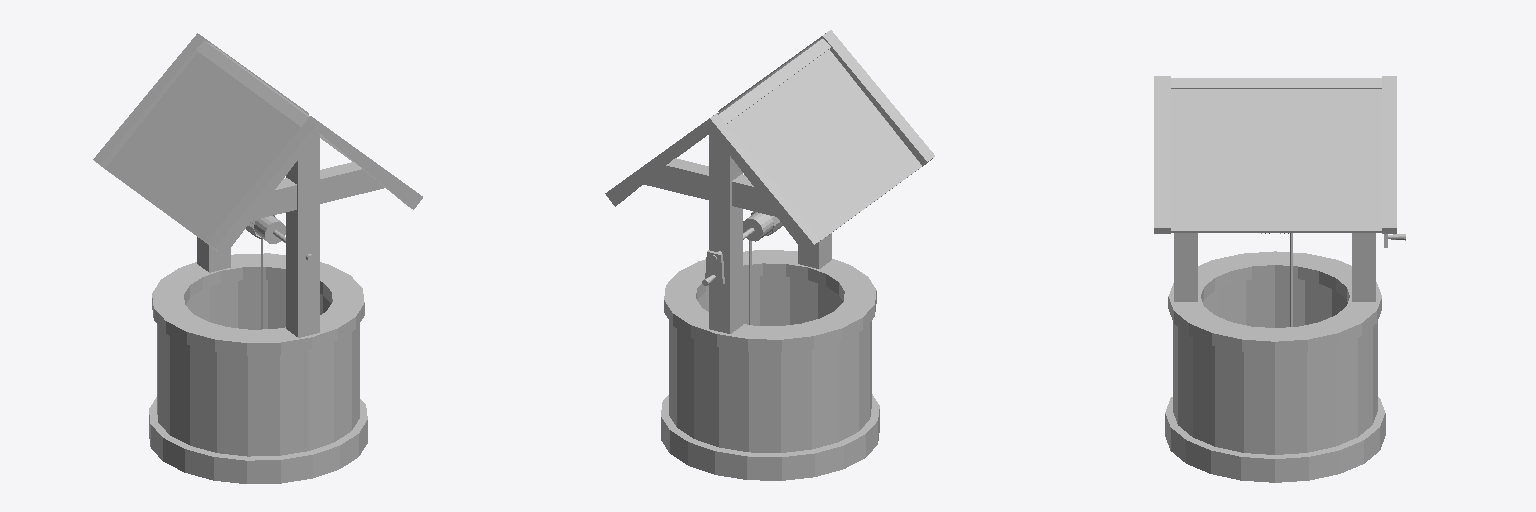
The model's file is pozo2.obj.
3 renders of one model, left to right at view 1: azimuth 30°, elevation 25°; view 2: azimuth 150°, elevation 25°; view 3: azimuth 270°, elevation 25°, orthographic.
Visible parts, largest first — view 1: Pozo_Agua; view 2: Pozo_Agua; view 3: Pozo_Agua.
Boxes of the visible parts, <box> form: Pozo_Agua: <box>93,33,422,483</box>; Pozo_Agua: <box>605,30,934,480</box>; Pozo_Agua: <box>1154,76,1405,482</box>.
Size of the model in its own units: 11.61 by 19.11 by 12.09.